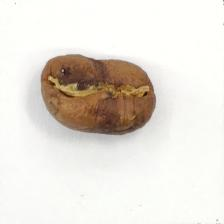NG: (56, 54, 126, 92), (89, 93, 139, 136)
